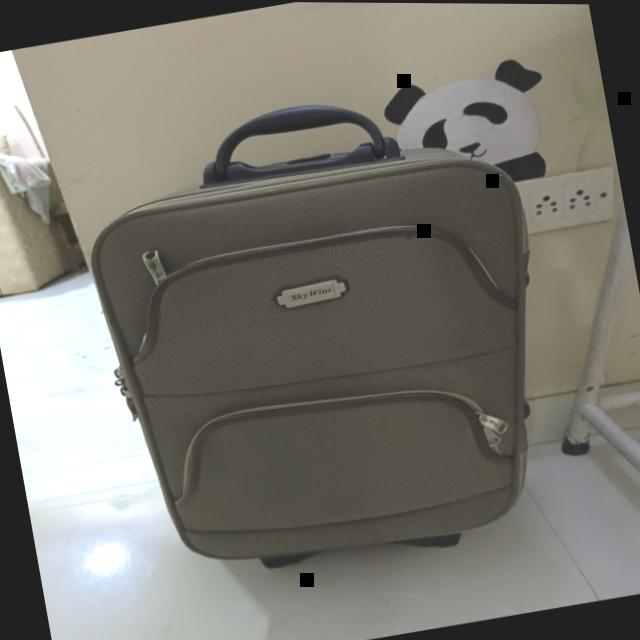luggage: (89, 150, 530, 569)
